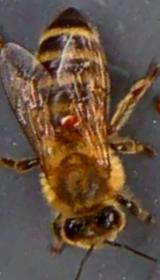varroa_mite: (56, 108, 84, 128)
